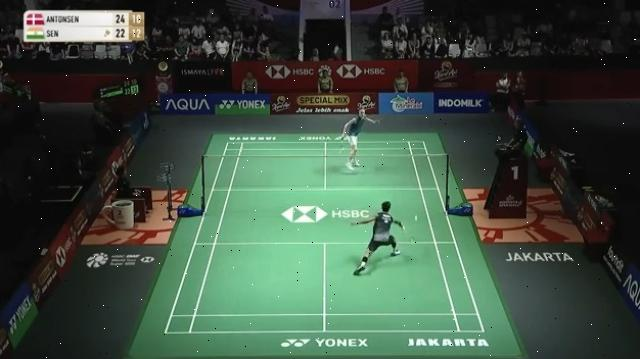Shuttlecock: (410, 214, 420, 225)
